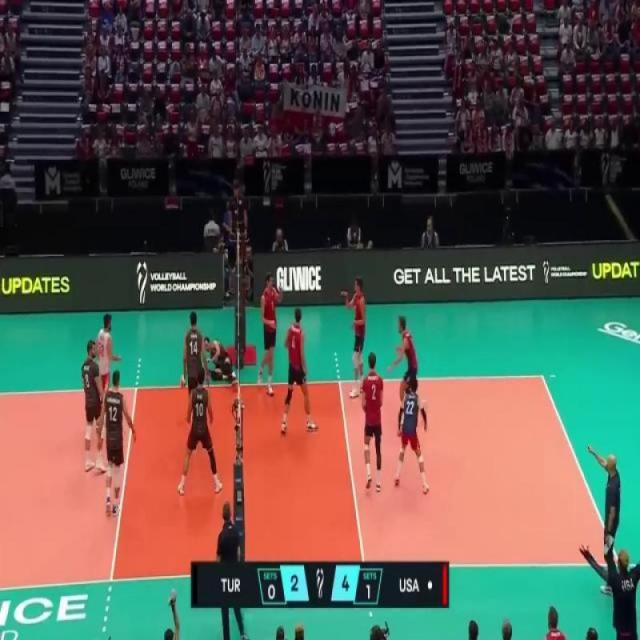volleyball: (178, 374, 188, 391)
